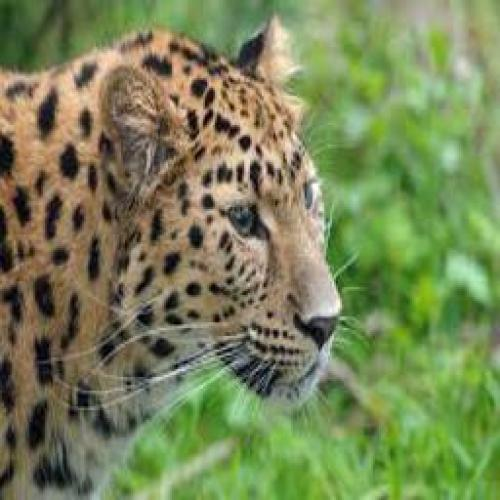amur_leopard-endangered: (0, 12, 342, 500)
